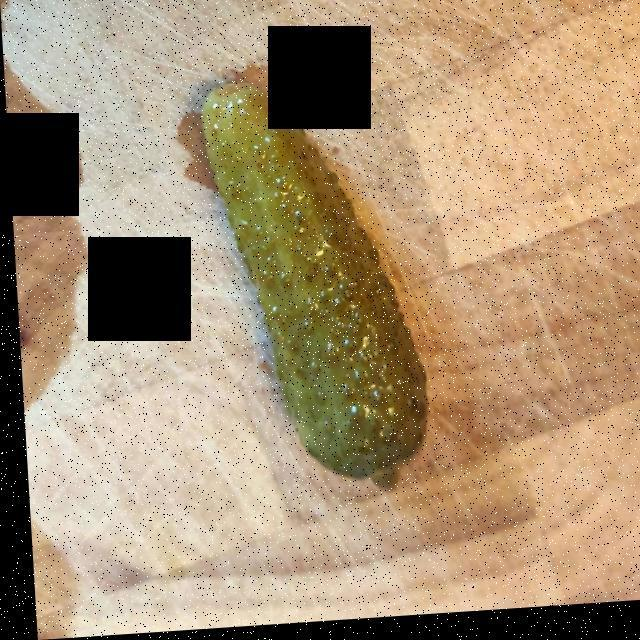cucumber-pickled: (194, 83, 421, 481)
